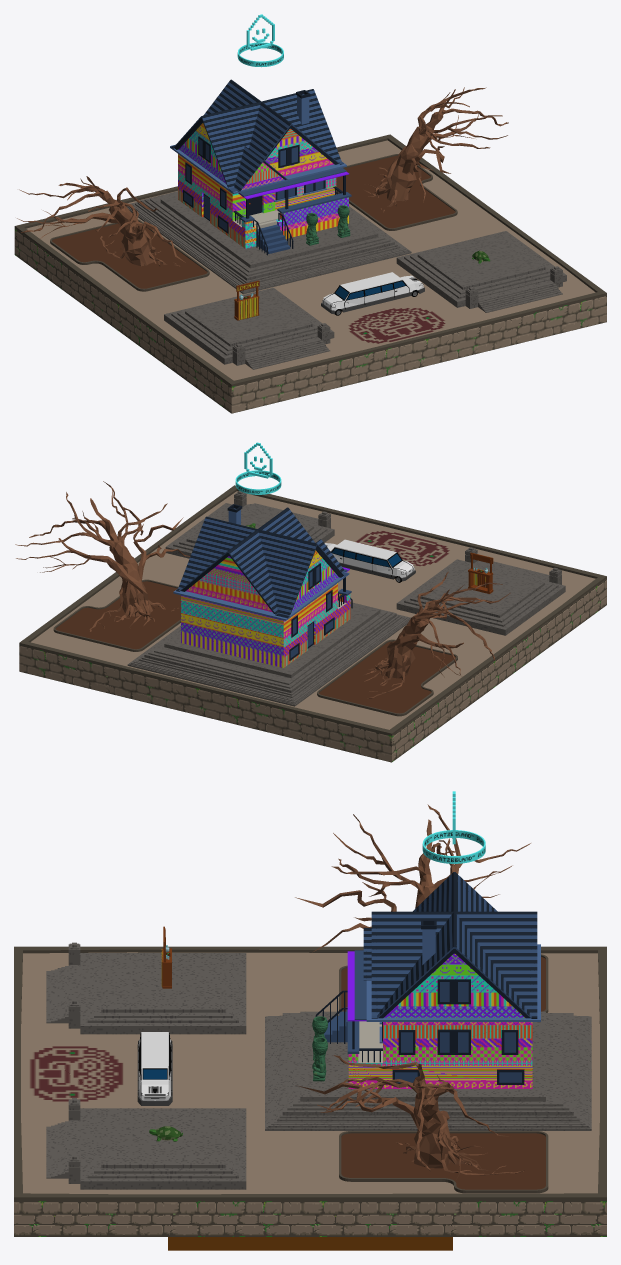
3 views of the same model, one above another, from view 1: azimuth 30°, elevation 25°; view 2: azimuth 150°, elevation 25°; view 3: azimuth 270°, elevation 25° (orthographic). The views are drawn at different scales.
Visible parts, largest first — view 1: Cube.011, Cube.676, VEHICLES_LIMOUSINE, TYPE_PREMIUM, OBJRANDOM_LEMONADE_STAND; view 2: Cube.011, Cube.676, VEHICLES_LIMOUSINE, TYPE_PREMIUM, OBJRANDOM_LEMONADE_STAND; view 3: Cube.011, Cube.676, UNDERGROUND_ART_PIECE_VAN_GOGH, VEHICLES_LIMOUSINE, TYPE_PREMIUM.
Part boxes in pixels (<box>): Cube.011: <box>14,87,606,413</box>; Cube.676: <box>170,79,351,255</box>; VEHICLES_LIMOUSINE: <box>321,272,424,315</box>; TYPE_PREMIUM: <box>237,14,283,67</box>; OBJRANDOM_LEMONADE_STAND: <box>234,280,259,320</box>; Cube.011: <box>15,481,606,762</box>; Cube.676: <box>173,504,352,667</box>; VEHICLES_LIMOUSINE: <box>324,539,415,582</box>; TYPE_PREMIUM: <box>235,442,281,494</box>; OBJRANDOM_LEMONADE_STAND: <box>468,552,493,593</box>; Cube.011: <box>14,804,606,1236</box>; Cube.676: <box>315,872,540,1088</box>; UNDERGROUND_ART_PIECE_VAN_GOGH: <box>168,1237,452,1250</box>; VEHICLES_LIMOUSINE: <box>137,1032,172,1105</box>; TYPE_PREMIUM: <box>422,791,485,863</box>.
Size of the model in its own units: 5099 by 2592 by 4000.
45 materials, 11 textured.
